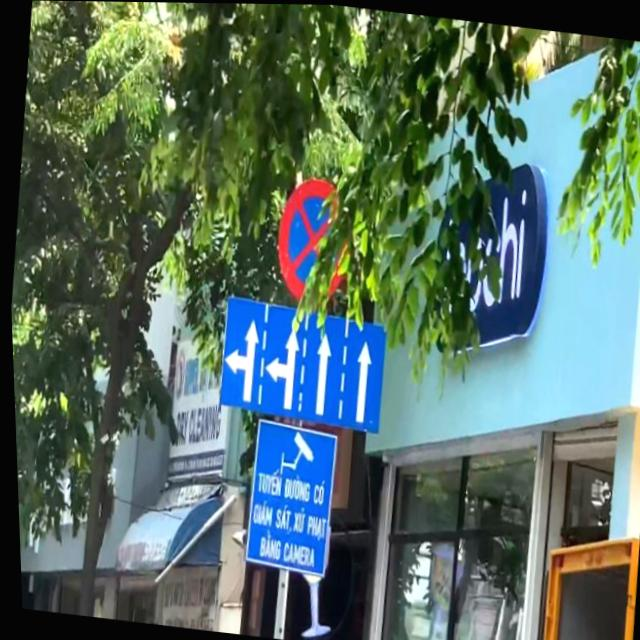Cam dung xe va do xe: (268, 174, 356, 308)
